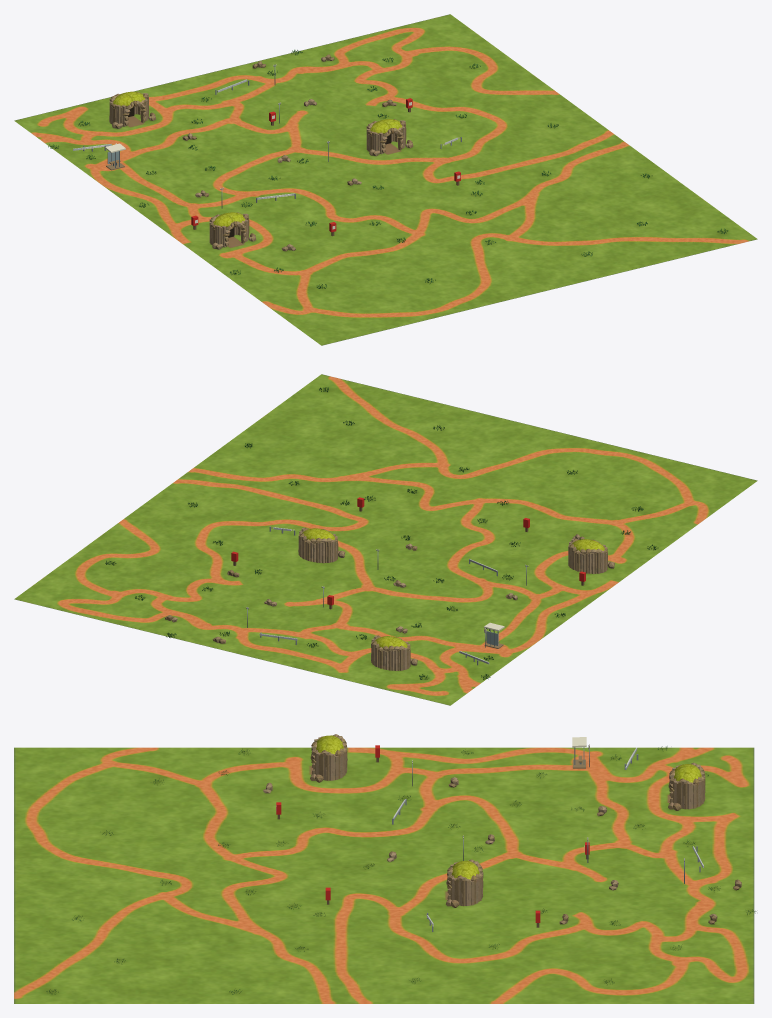
The model's file is terrain-props.glb.
The picture shows the model from 3 angles, top to bottom: view 1: azimuth 30°, elevation 25°; view 2: azimuth 150°, elevation 25°; view 3: azimuth 270°, elevation 25°; orthographic projection. The views are drawn at different scales.
Parts seen in each view (by area): view 1: hm02_ground_support, hm02_caves_batched, hm02_fixed_props_batched; view 2: hm02_ground_support, hm02_caves_batched, hm02_fixed_props_batched; view 3: hm02_ground_support, hm02_caves_batched, hm02_fixed_props_batched.
Part boxes in pixels (x1,y1,x2,y2): hm02_ground_support: (14, 14, 757, 345); hm02_caves_batched: (109, 91, 413, 249); hm02_fixed_props_batched: (48, 49, 728, 288); hm02_ground_support: (14, 374, 757, 705); hm02_caves_batched: (298, 527, 614, 670); hm02_fixed_props_batched: (105, 387, 658, 679); hm02_ground_support: (14, 747, 754, 1003); hm02_caves_batched: (310, 734, 705, 907); hm02_fixed_props_batched: (46, 737, 756, 994).
Bounding box in the file's own units: 64.3 × 3.77 × 78.5.
Materials: 3 (2 with a texture image).
